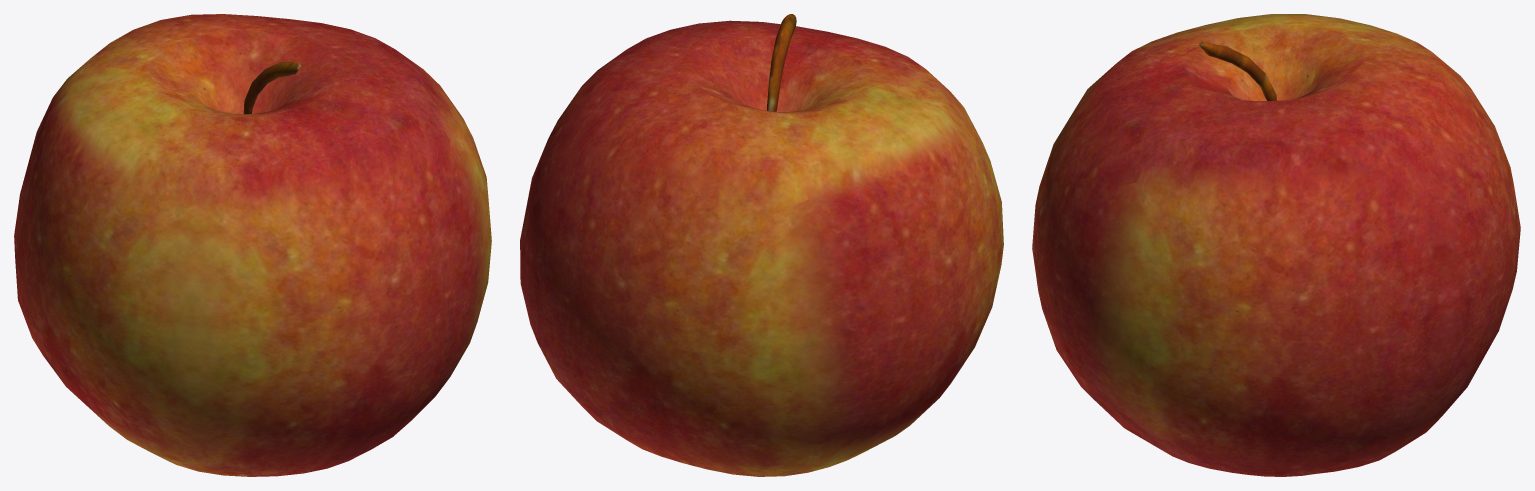
Rendered from apple_fbx.glb.
3 renders of one model, left to right at view 1: azimuth 30°, elevation 25°; view 2: azimuth 150°, elevation 25°; view 3: azimuth 270°, elevation 25°, orthographic.
Parts seen in each view (by area): view 1: Sphere07, Cylinder05; view 2: Sphere07, Cylinder05; view 3: Sphere07, Cylinder05.
Boxes of the visible parts, x1,y1,x2,y2 form: Sphere07: (14,14,491,476); Cylinder05: (243,62,301,114); Sphere07: (520,20,1003,476); Cylinder05: (767,14,796,111); Sphere07: (1032,14,1520,476); Cylinder05: (1199,42,1277,101).
Size of the model in its own units: 0.1744 by 0.1622 by 0.1777.
Materials: 1 (1 with a texture image).
